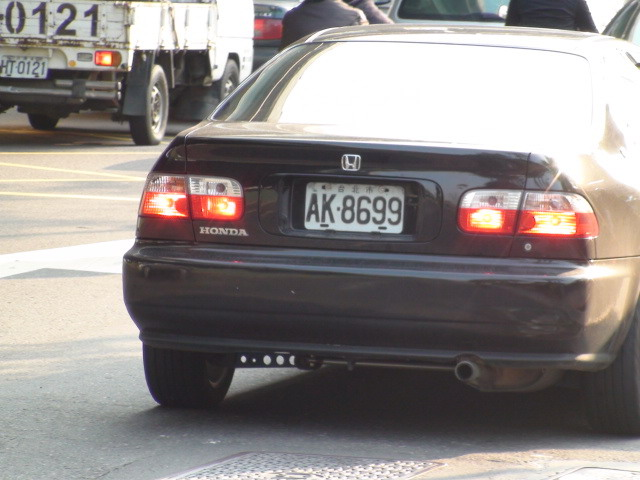plate: (304, 178, 407, 238), (0, 54, 50, 84)
